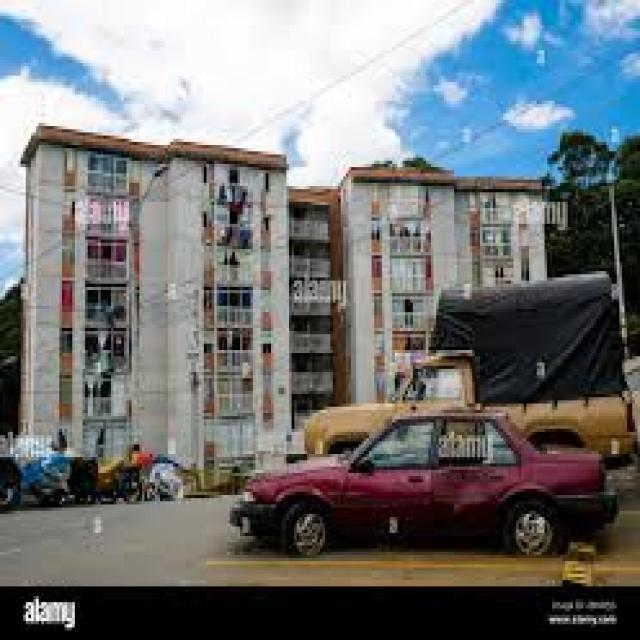damaged-door: (432, 415, 519, 529)
